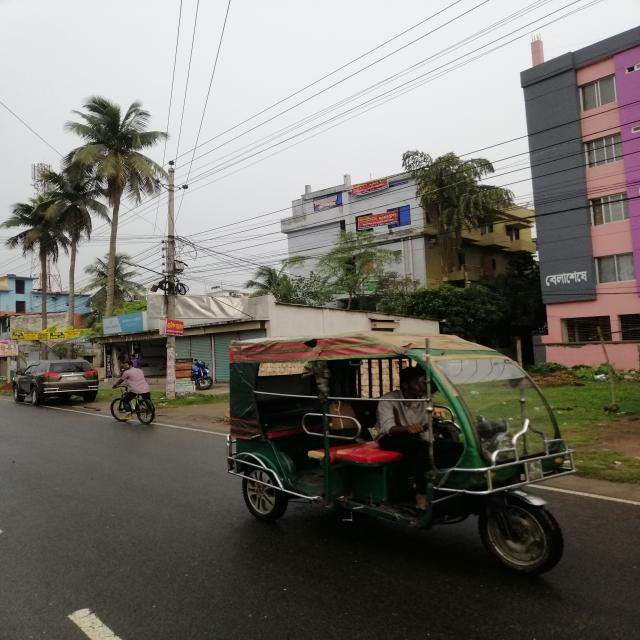Bicycle: (112, 385, 159, 430)
Easybike: (225, 333, 580, 572)
Zeep: (13, 359, 99, 412)
